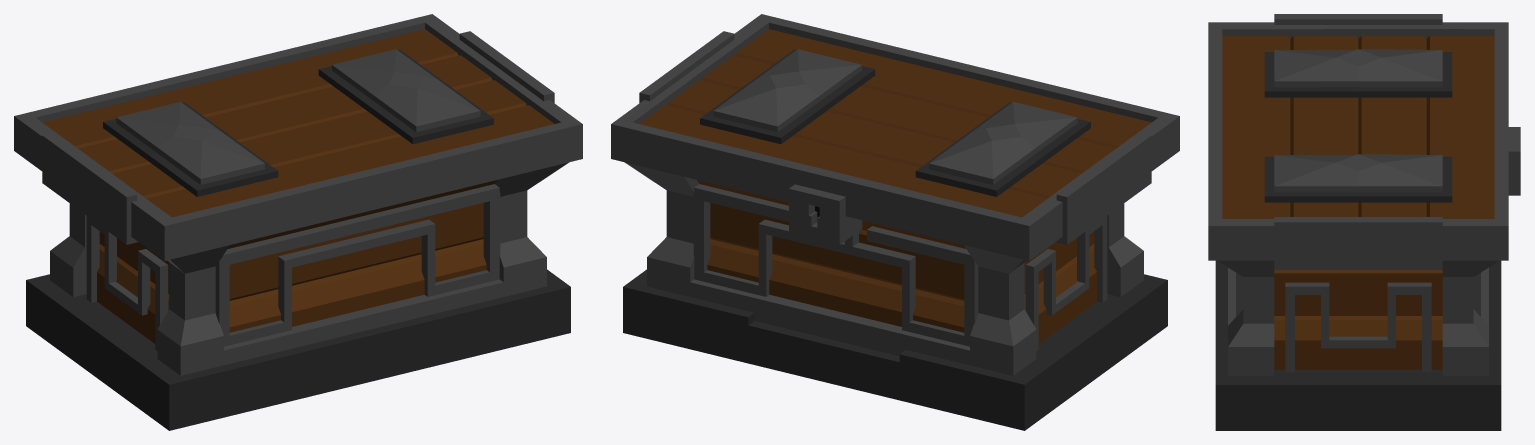
File: obj_Chest.fbx
3 views of the same model, side by side, from view 1: azimuth 30°, elevation 25°; view 2: azimuth 150°, elevation 25°; view 3: azimuth 270°, elevation 25° (orthographic).
Parts seen in each view (by area): view 1: geo_Chest, geo_Lid; view 2: geo_Lid, geo_Chest; view 3: geo_Lid, geo_Chest.
Boxes of the visible parts, <box> form: geo_Chest: <box>26,162,570,430</box>; geo_Lid: <box>14,14,582,260</box>; geo_Lid: <box>611,14,1179,260</box>; geo_Chest: <box>623,162,1167,430</box>; geo_Lid: <box>1208,14,1520,269</box>; geo_Chest: <box>1215,260,1501,430</box>.
Bounding box in the file's own units: 268 × 134 × 170.
